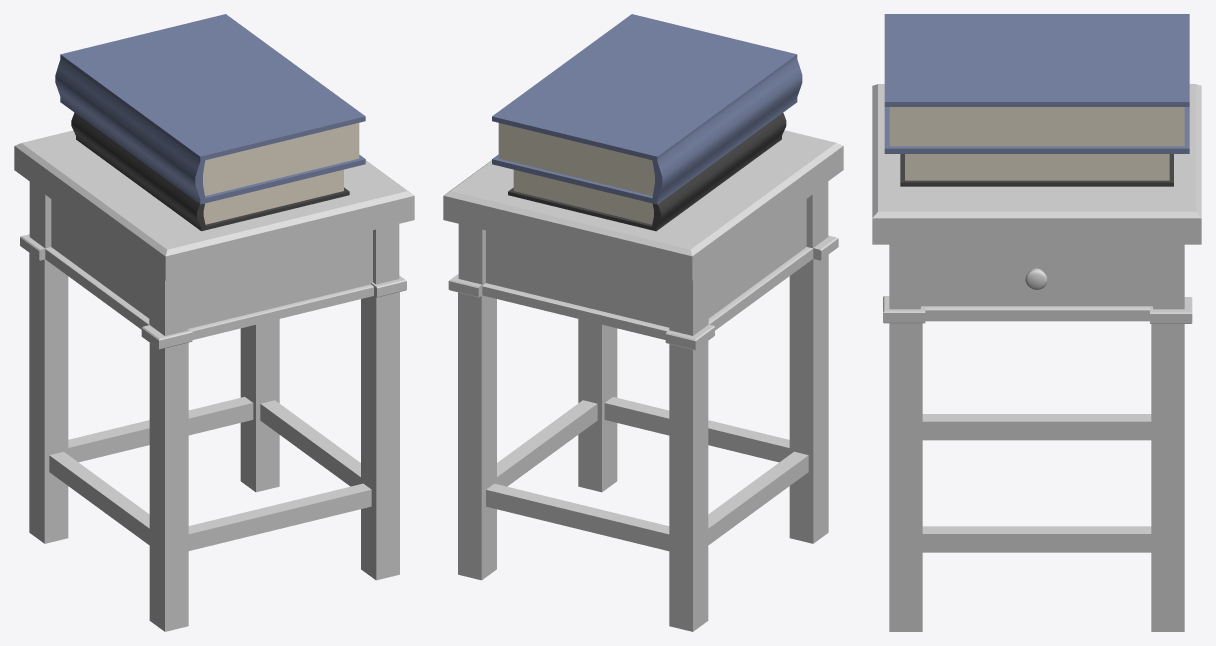
The model's file is SideTable.fbx.
3 renders of one model, left to right at view 1: azimuth 30°, elevation 25°; view 2: azimuth 150°, elevation 25°; view 3: azimuth 270°, elevation 25°, orthographic. The views are drawn at different scales.
Parts seen in each view (by area): view 1: polySurface28, pCube77, pCube76; view 2: polySurface28, pCube77, pCube76; view 3: polySurface28, pCube77, pCube76.
Boxes of the visible parts, left/top/right/bottom form: polySurface28: left=14, top=130, right=414, bottom=631; pCube77: left=55, top=14, right=365, bottom=204; pCube76: left=71, top=112, right=349, bottom=231; polySurface28: left=443, top=130, right=843, bottom=631; pCube77: left=492, top=14, right=802, bottom=204; pCube76: left=508, top=113, right=786, bottom=231; polySurface28: left=872, top=84, right=1201, bottom=631; pCube77: left=884, top=14, right=1189, bottom=153; pCube76: left=900, top=154, right=1173, bottom=186.
Size of the model in its own units: 1.06 by 1.91 by 1.12.
